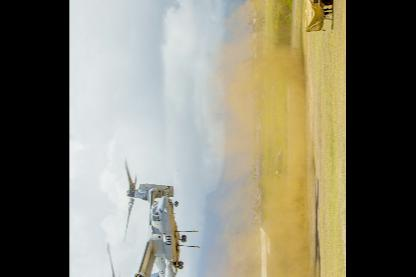Tornado: (105, 155, 187, 276)
